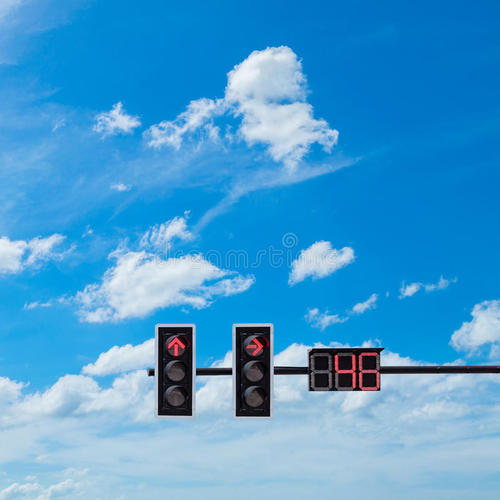red: (229, 319, 275, 424), (155, 319, 196, 424)
